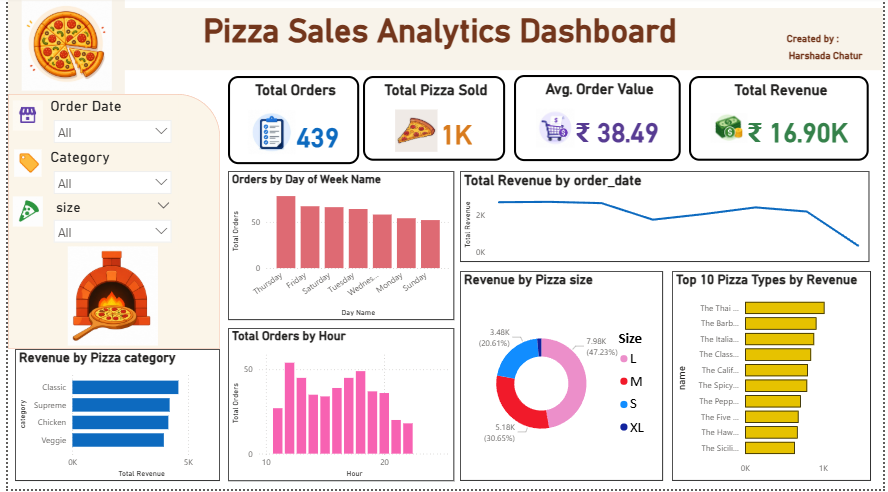

The dashboard page shown, as its layout file describes it:
{"tool":"powerbi","page":{"name":"Overview","canvas":[1280,720],"ordinal":0},"visuals":[{"type":"shape","box":[0,142,310.2,373.2],"z":0},{"type":"cardVisual","title":"Total Revenue","fields":{"Data":["pizza_sales_dashboard_data.Total Revenue"]},"box":[996.6,115.6,263.4,124.4],"z":1000},{"type":"lineChart","fields":{"Category":["pizza_sales_dashboard_data.order_date"],"Y":["pizza_sales_dashboard_data.Total Revenue"]},"box":[661.5,254.6,598.5,133.2],"z":2000},{"type":"barChart","title":"Revenue by Pizza category","fields":{"Category":["pizza_sales_dashboard_data.category"],"Y":["pizza_sales_dashboard_data.Total Revenue"]},"box":[10.2,515.1,300,193.2],"z":3000},{"type":"clusteredBarChart","title":"Top 10 Pizza Types by Revenue","fields":{"Category":["pizza_sales_dashboard_data.name"],"Y":["pizza_sales_dashboard_data.Total Revenue"]},"box":[971.7,401,291.2,307.3],"z":4000},{"type":"donutChart","title":" Revenue by Pizza size","fields":{"Category":["pizza_sales_dashboard_data.size"],"Y":["pizza_sales_dashboard_data.Total Revenue"]},"box":[661.5,401,297.1,307.3],"z":5000},{"type":"clusteredColumnChart","fields":{"Category":["pizza_sales_dashboard_data.Hour"],"Y":["pizza_sales_dashboard_data.Total Orders"]},"box":[322,484.4,330.7,223.9],"z":6000},{"type":"clusteredColumnChart","title":"Orders by Day of Week Name","fields":{"Y":["pizza_sales_dashboard_data.Total Orders"],"Category":["pizza_sales_dashboard_data.Day Name"]},"box":[322,254.6,330.7,218],"z":7000},{"type":"slicer","title":"Category","fields":{"Values":["pizza_sales_dashboard_data.category"]},"box":[57.1,221,191.7,93.7],"z":8000},{"type":"slicer","fields":{"Values":["pizza_sales_dashboard_data.size"]},"box":[57.1,291.2,191.7,76.1],"z":9000},{"type":"slicer","title":"Order Date","fields":{"Values":["pizza_sales_dashboard_data.order_date"]},"box":[57.1,146.3,191.7,74.6],"z":10000},{"type":"textbox","box":[10.2,16.1,1270.2,90.7],"z":11000},{"type":"cardVisual","title":"Avg. Order Value","fields":{"Data":["pizza_sales_dashboard_data.Average Order Value"]},"box":[740.5,114.1,244.4,125.9],"z":12000},{"type":"cardVisual","title":"Total Pizza Sold","fields":{"Data":["pizza_sales_dashboard_data.Total Pizzas Sold"]},"box":[519.5,115.6,207.8,124.4],"z":13000},{"type":"cardVisual","title":"Total Orders","fields":{"Data":["pizza_sales_dashboard_data.Total Orders"]},"box":[322,115.6,191.7,128.8],"z":14000},{"type":"image","box":[0,0,171.2,142],"z":15000},{"type":"image","box":[0,146.3,57.1,54.1],"z":16000},{"type":"image","box":[23.4,360,259,155.1],"z":17000},{"type":"image","box":[0,218,57.1,49.8],"z":18000},{"type":"image","box":[0,286.8,57.1,54.1],"z":19000}]}

Visuals, with their boxes in screenshot pixels (x1, y1, x2, y2), scaled from the page's 1280x720 canvas onto the 888x492 screenshot:
shape: l=0, t=97, r=215, b=352
"Total Revenue" cardVisual: l=691, t=79, r=874, b=164
lineChart - pizza_sales_dashboard_data.order_date x pizza_sales_dashboard_data.Total Revenue: l=459, t=174, r=874, b=265
"Revenue by Pizza category" barChart: l=7, t=352, r=215, b=484
"Top 10 Pizza Types by Revenue" clusteredBarChart: l=674, t=274, r=876, b=484
" Revenue by Pizza size" donutChart: l=459, t=274, r=665, b=484
clusteredColumnChart - pizza_sales_dashboard_data.Hour x pizza_sales_dashboard_data.Total Orders: l=223, t=331, r=453, b=484
"Orders by Day of Week Name" clusteredColumnChart: l=223, t=174, r=453, b=323
"Category" slicer: l=40, t=151, r=173, b=215
slicer - pizza_sales_dashboard_data.size: l=40, t=199, r=173, b=251
"Order Date" slicer: l=40, t=100, r=173, b=151
textbox: l=7, t=11, r=887, b=73
"Avg. Order Value" cardVisual: l=514, t=78, r=683, b=164
"Total Pizza Sold" cardVisual: l=360, t=79, r=505, b=164
"Total Orders" cardVisual: l=223, t=79, r=356, b=167
image: l=0, t=0, r=119, b=97
image: l=0, t=100, r=40, b=137
image: l=16, t=246, r=196, b=352
image: l=0, t=149, r=40, b=183
image: l=0, t=196, r=40, b=233
